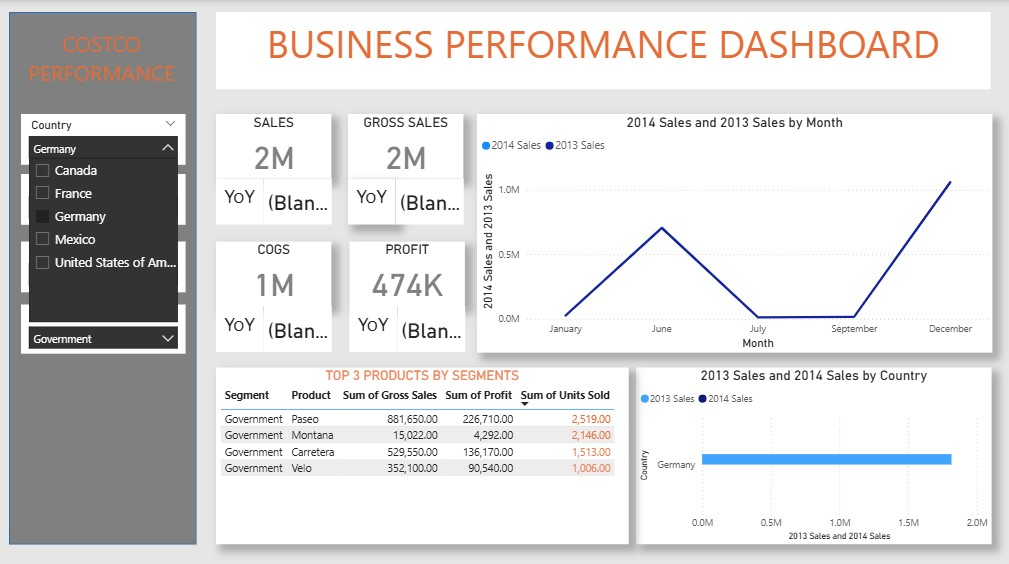

This screenshot's page, from the dashboard's own definition file:
{"tool":"powerbi","page":{"name":"Page 1","canvas":[1280,720],"ordinal":0},"visuals":[{"type":"shape","box":[15.1,15.1,236.2,670.9],"z":0},{"type":"textbox","box":[276.9,15.9,975.9,97.6],"z":1000},{"type":"card","title":"SALES","fields":{"Values":["Sum(financials. Sales)"]},"box":[276.9,143.4,145.4,81.7],"z":2000},{"type":"card","title":"PROFIT","fields":{"Values":["Sum(financials.Profit)"]},"box":[444.2,304.7,145.4,81.7],"z":3000},{"type":"card","title":"COGS","fields":{"Values":["Sum(financials.COGS)"]},"box":[276.9,304.7,145.4,81.7],"z":4000},{"type":"card","title":"GROSS SALES","fields":{"Values":["Sum(financials.Gross Sales)"]},"box":[442.2,143.4,145.4,81.7],"z":5000},{"type":"card","title":"SALES","fields":{"Values":["financials. Sales YoY%"]},"box":[336.6,225.1,85.6,57.8],"z":6000},{"type":"textbox","box":[276.9,225.1,59.8,57.8],"z":7000},{"type":"textbox","box":[276.9,386.4,59.8,57.8],"z":8000},{"type":"textbox","box":[444.2,386.4,59.8,57.8],"z":9000},{"type":"textbox","box":[442.2,225.1,59.8,57.8],"z":10000},{"type":"card","title":"SALES","fields":{"Values":["financials.COGS YoY%"]},"box":[336.6,386.4,85.6,57.8],"z":11000},{"type":"card","title":"SALES","fields":{"Values":["financials.Profit YoY%"]},"box":[503.9,386.4,85.6,57.8],"z":12000},{"type":"card","title":"SALES","fields":{"Values":["financials.Gross Sales YoY%"]},"box":[501.9,225.1,85.6,57.8],"z":13000},{"type":"lineChart","fields":{"Category":["financials.Date.Variation.Date Hierarchy.Month"],"Y":["financials.2014 Sales","financials.2013 Sales"]},"box":[605.5,143.4,649.3,300.8],"z":14000},{"type":"clusteredBarChart","fields":{"Category":["financials.Country"],"Y":["financials.2013 Sales","financials.2014 Sales"]},"box":[805,463,447.9,223],"z":15000},{"type":"tableEx","title":"TOP 3 PRODUCTS BY SEGMENTS","fields":{"Values":["financials.Segment","financials.Product","Sum(financials.Gross Sales)","Sum(financials.Profit)","Sum(financials.Units Sold)"]},"box":[275.9,463,519.7,223],"z":16000},{"type":"slicer","fields":{"Values":["financials.Country"]},"box":[29.9,143.4,207.1,63.7],"z":17000},{"type":"slicer","fields":{"Values":["financials.Discount Band"]},"box":[29.9,219.1,207.1,63.7],"z":18000},{"type":"slicer","fields":{"Values":["financials.Segment"]},"box":[29.9,384.4,207.1,61.7],"z":19000},{"type":"slicer","fields":{"Values":["financials.Product"]},"box":[29.9,304.7,207.1,63.7],"z":20000},{"type":"textbox","box":[13.9,31.9,237,97.6],"z":21000}]}

Visuals, with their boxes in screenshot pixels (x1, y1, x2, y2):
shape: [left=4, top=7, right=194, bottom=545]
textbox: [left=214, top=7, right=997, bottom=86]
"SALES" card: [left=214, top=110, right=331, bottom=175]
"PROFIT" card: [left=348, top=239, right=465, bottom=305]
"COGS" card: [left=214, top=239, right=331, bottom=305]
"GROSS SALES" card: [left=347, top=110, right=464, bottom=175]
"SALES" card: [left=262, top=175, right=331, bottom=222]
textbox: [left=214, top=175, right=262, bottom=222]
textbox: [left=214, top=305, right=262, bottom=351]
textbox: [left=348, top=305, right=396, bottom=351]
textbox: [left=347, top=175, right=395, bottom=222]
"SALES" card: [left=262, top=305, right=331, bottom=351]
"SALES" card: [left=396, top=305, right=465, bottom=351]
"SALES" card: [left=395, top=175, right=463, bottom=222]
lineChart - financials.Date.Variation.Date Hierarchy.Month x financials.2014 Sales: [left=478, top=110, right=999, bottom=351]
clusteredBarChart - financials.Country x financials.2013 Sales: [left=638, top=366, right=997, bottom=545]
"TOP 3 PRODUCTS BY SEGMENTS" tableEx: [left=213, top=366, right=630, bottom=545]
slicer - financials.Country: [left=16, top=110, right=182, bottom=161]
slicer - financials.Discount Band: [left=16, top=171, right=182, bottom=222]
slicer - financials.Segment: [left=16, top=303, right=182, bottom=353]
slicer - financials.Product: [left=16, top=239, right=182, bottom=290]
textbox: [left=3, top=20, right=193, bottom=99]
